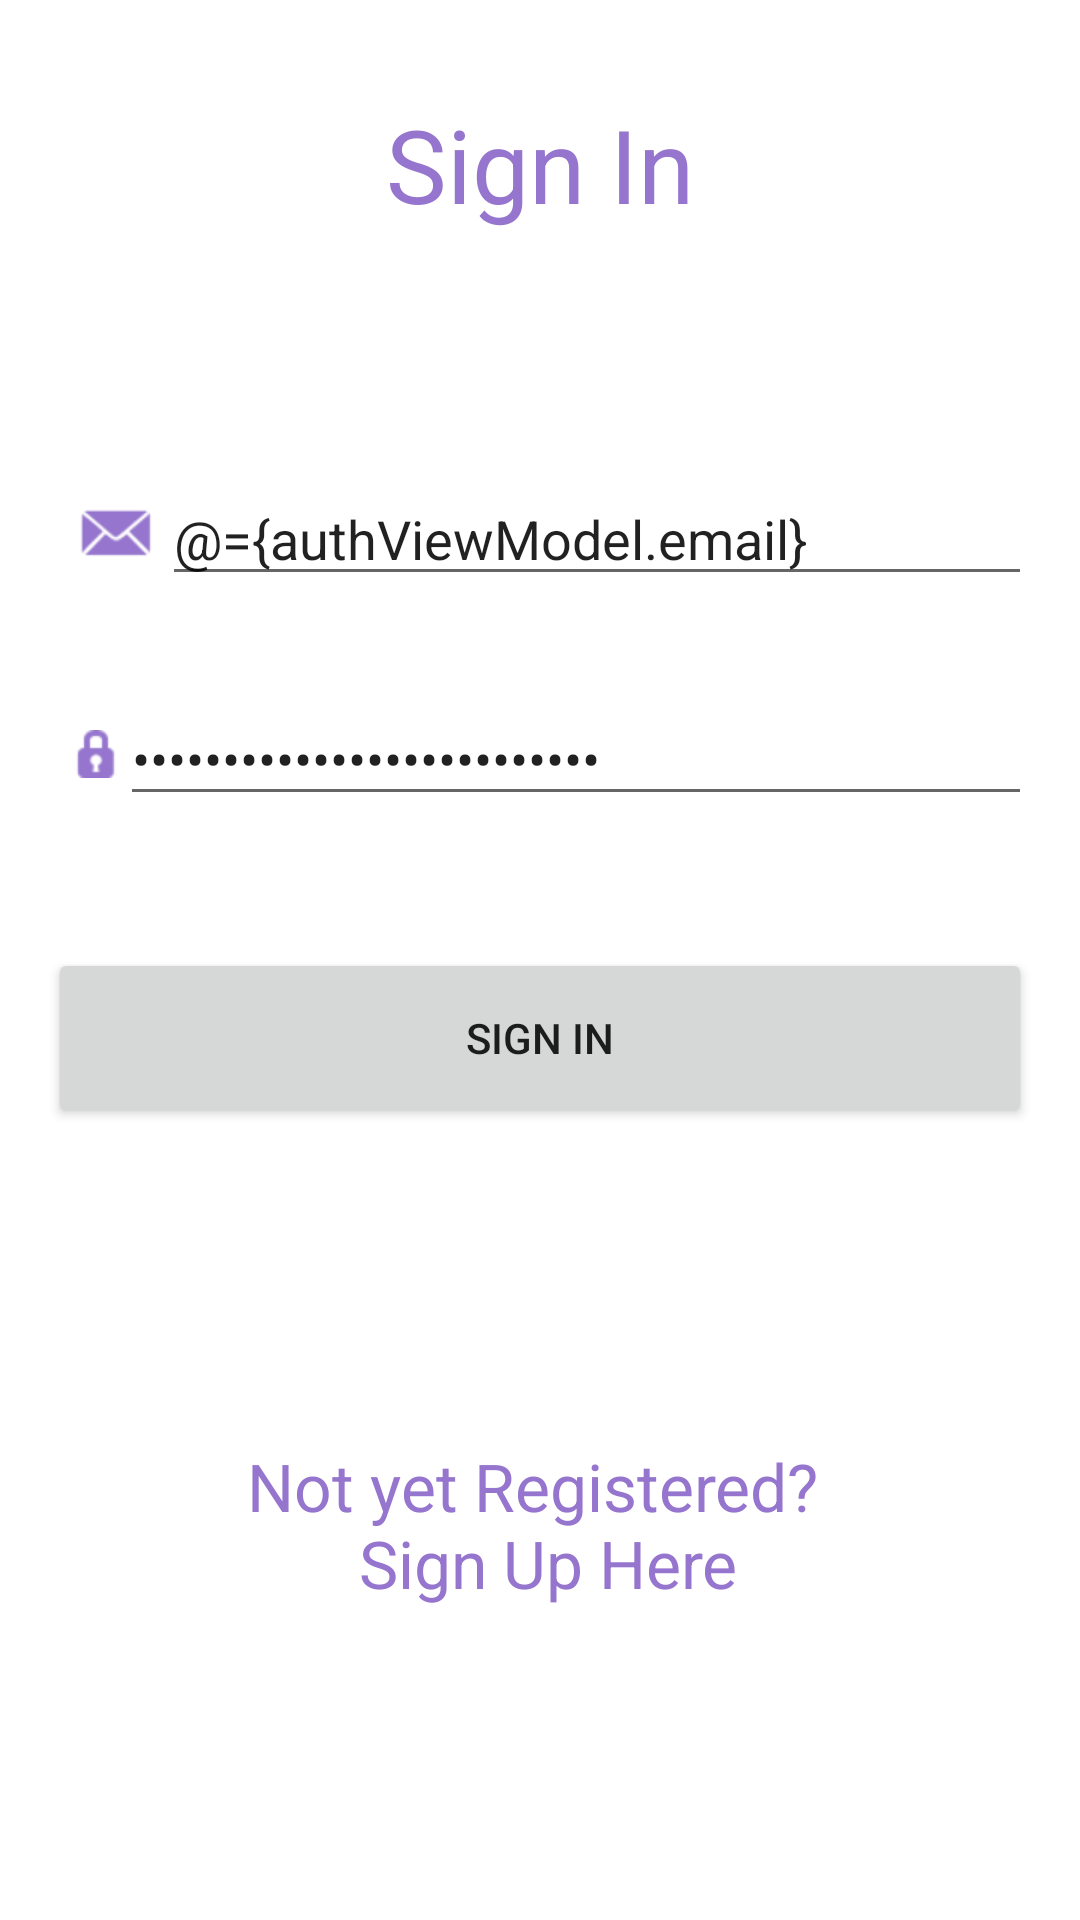

Icon click points for this 1080px x 1920px phone screenshot, format (x,y):
secure: (96,754)
